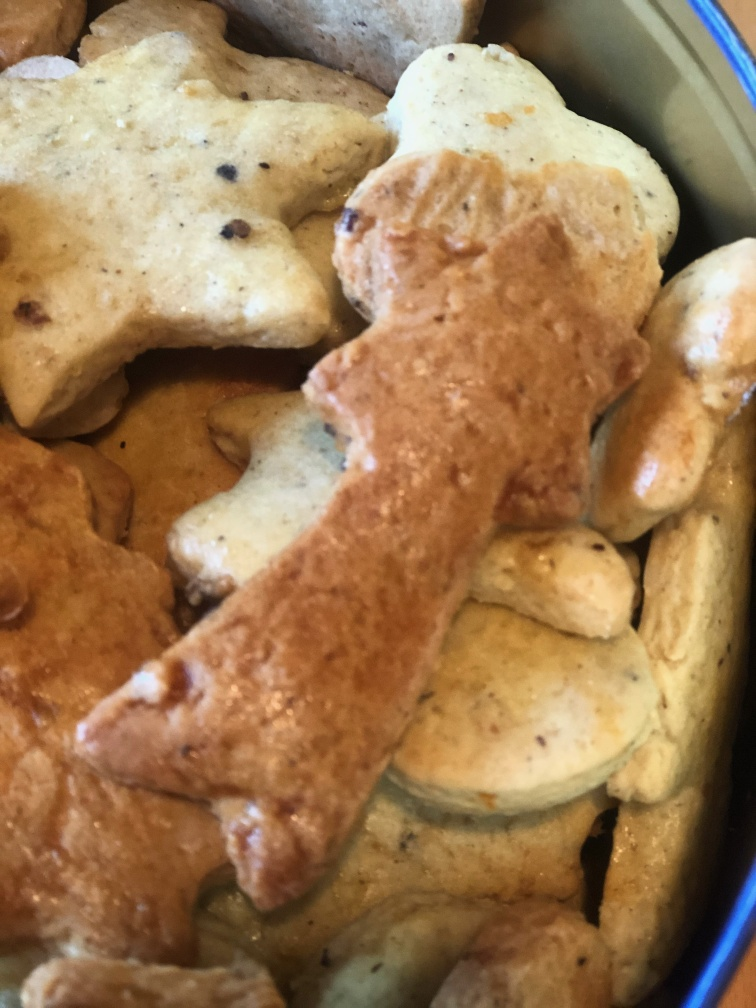shooting star: (64, 207, 656, 919)
star: (1, 30, 379, 428)
